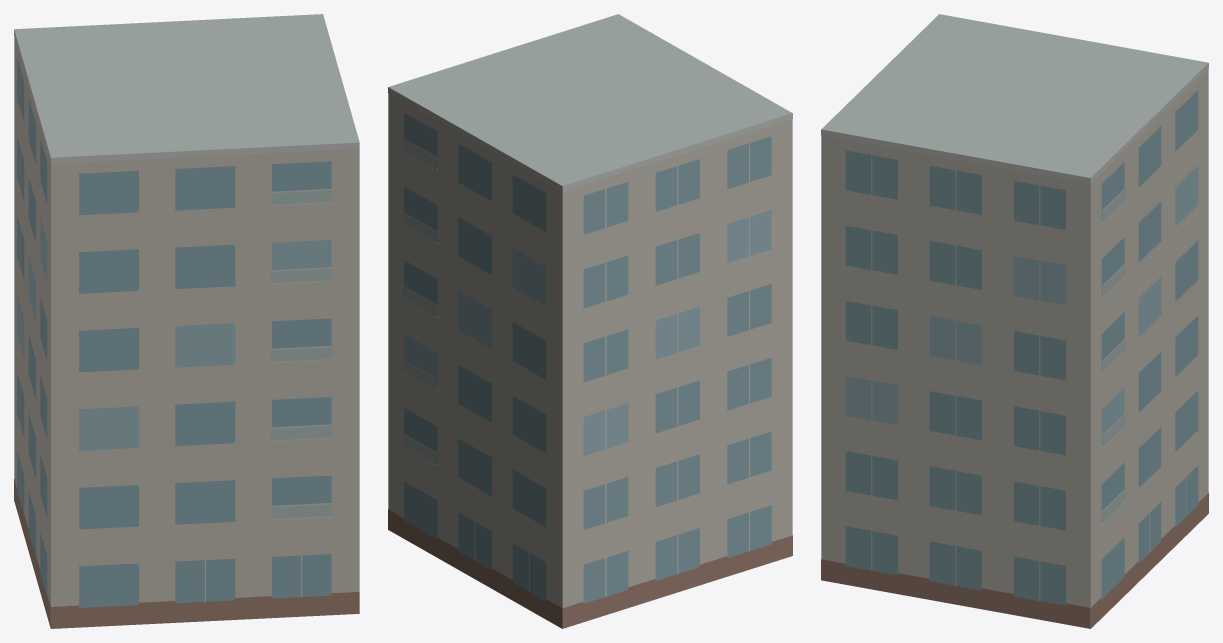
File: survey-upis-33007349.glb
The picture shows the model from 3 angles, left to right: view 1: azimuth 30°, elevation 25°; view 2: azimuth 150°, elevation 25°; view 3: azimuth 270°, elevation 25°; orthographic projection. The views are drawn at different scales.
Visible parts, largest first — view 1: survey-upis-33007349.tmp; view 2: survey-upis-33007349.tmp; view 3: survey-upis-33007349.tmp.
Boxes of the visible parts, x1,y1,x2,y2 form: survey-upis-33007349.tmp: (14,14,359,628); survey-upis-33007349.tmp: (388,14,792,628); survey-upis-33007349.tmp: (821,14,1208,628).
Size of the model in its own units: 14.29 by 18.3 by 14.27.
